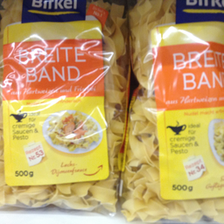pasta: (1, 1, 131, 214), (123, 1, 224, 219)
